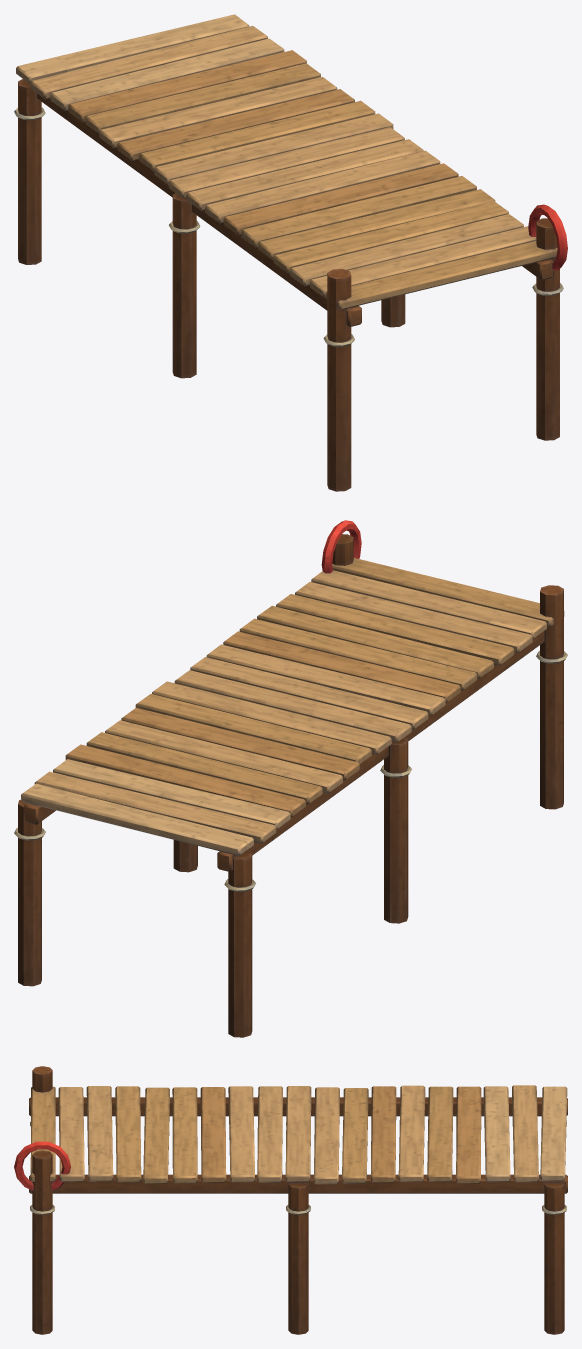
Rendered from Stage_Lake_Dock.glb.
3 renders of one model, top to bottom at view 1: azimuth 30°, elevation 25°; view 2: azimuth 150°, elevation 25°; view 3: azimuth 270°, elevation 25°, orthographic. The views are drawn at different scales.
Parts seen in each view (by area): view 1: Stage_Lake_Dock; view 2: Stage_Lake_Dock; view 3: Stage_Lake_Dock.
Part boxes in pixels (x1,y1,x2,y2): Stage_Lake_Dock: (14,14,567,491); Stage_Lake_Dock: (14,520,567,1037); Stage_Lake_Dock: (14,1066,567,1334).
Bounding box in the file's own units: 8.38 × 7.73 × 20.56.
1 material, 1 textured.
